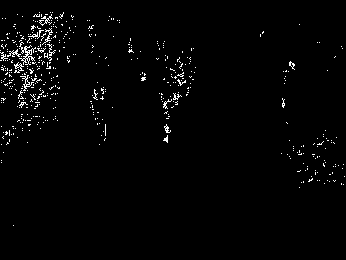person: (158, 69, 181, 144)
